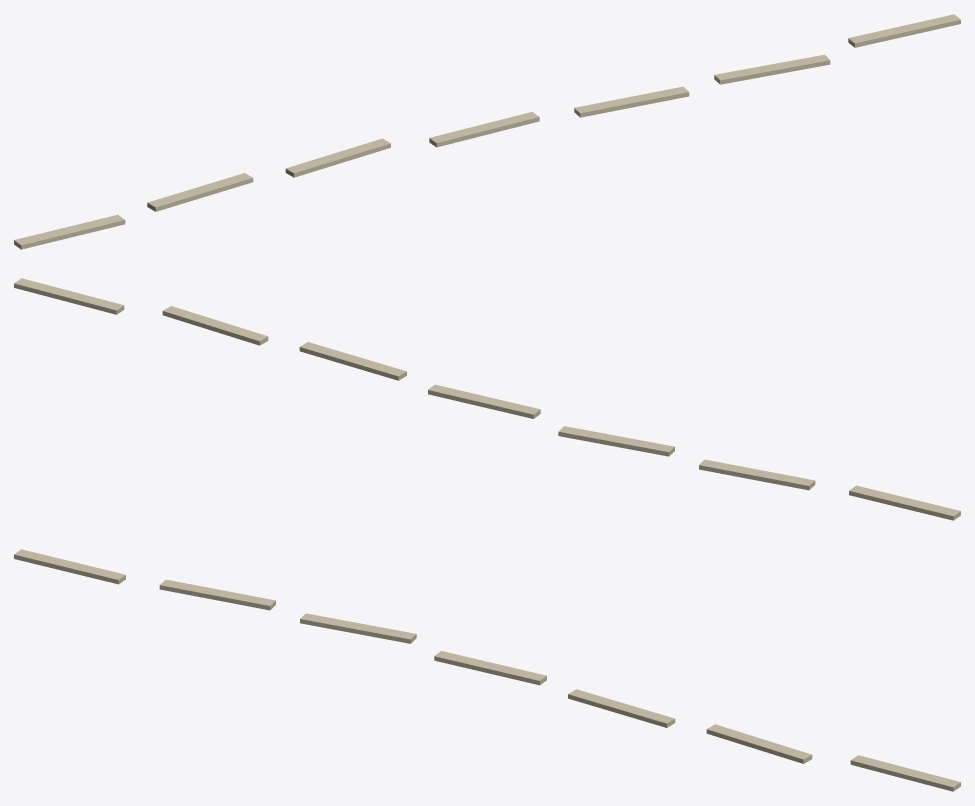
The model's file is foam_strip_visual.glb.
The picture shows the model from 3 angles, top to bottom: view 1: azimuth 30°, elevation 25°; view 2: azimuth 150°, elevation 25°; view 3: azimuth 330°, elevation 25°; orthographic projection.
Parts seen in each view (by area): view 1: foam_strip_visual_pc; view 2: foam_strip_visual_pc; view 3: foam_strip_visual_pc.
Part boxes in pixels (bbox=[...]): foam_strip_visual_pc: bbox=[14, 14, 960, 249]; foam_strip_visual_pc: bbox=[14, 278, 960, 520]; foam_strip_visual_pc: bbox=[14, 549, 960, 791].
Bounding box in the file's own units: 4.5 × 0.02 × 0.265.
